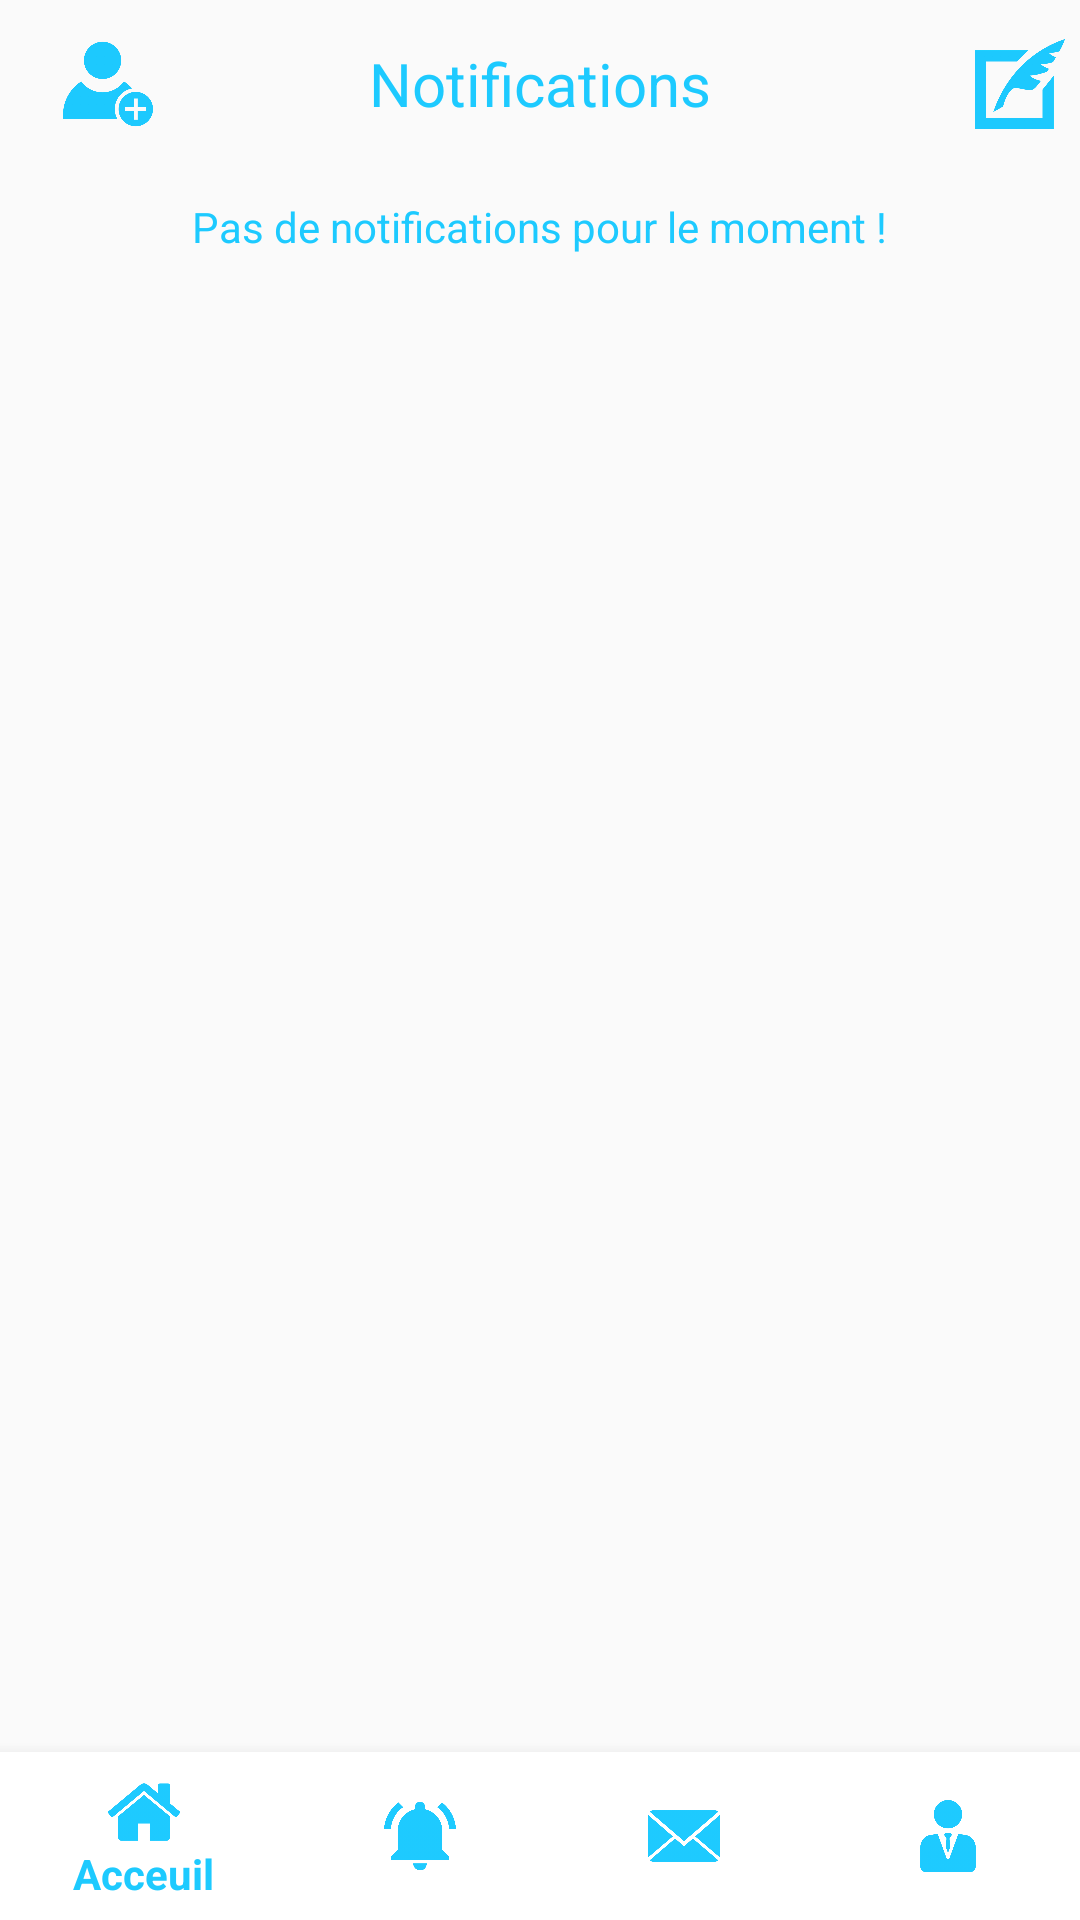

Screen size 1080×1920. Icon name, then its box in pixels as bbox=[x1, y1, x2, y2]:
twitter add: bbox=[63, 42, 153, 126]
twitter write: bbox=[975, 39, 1065, 129]
